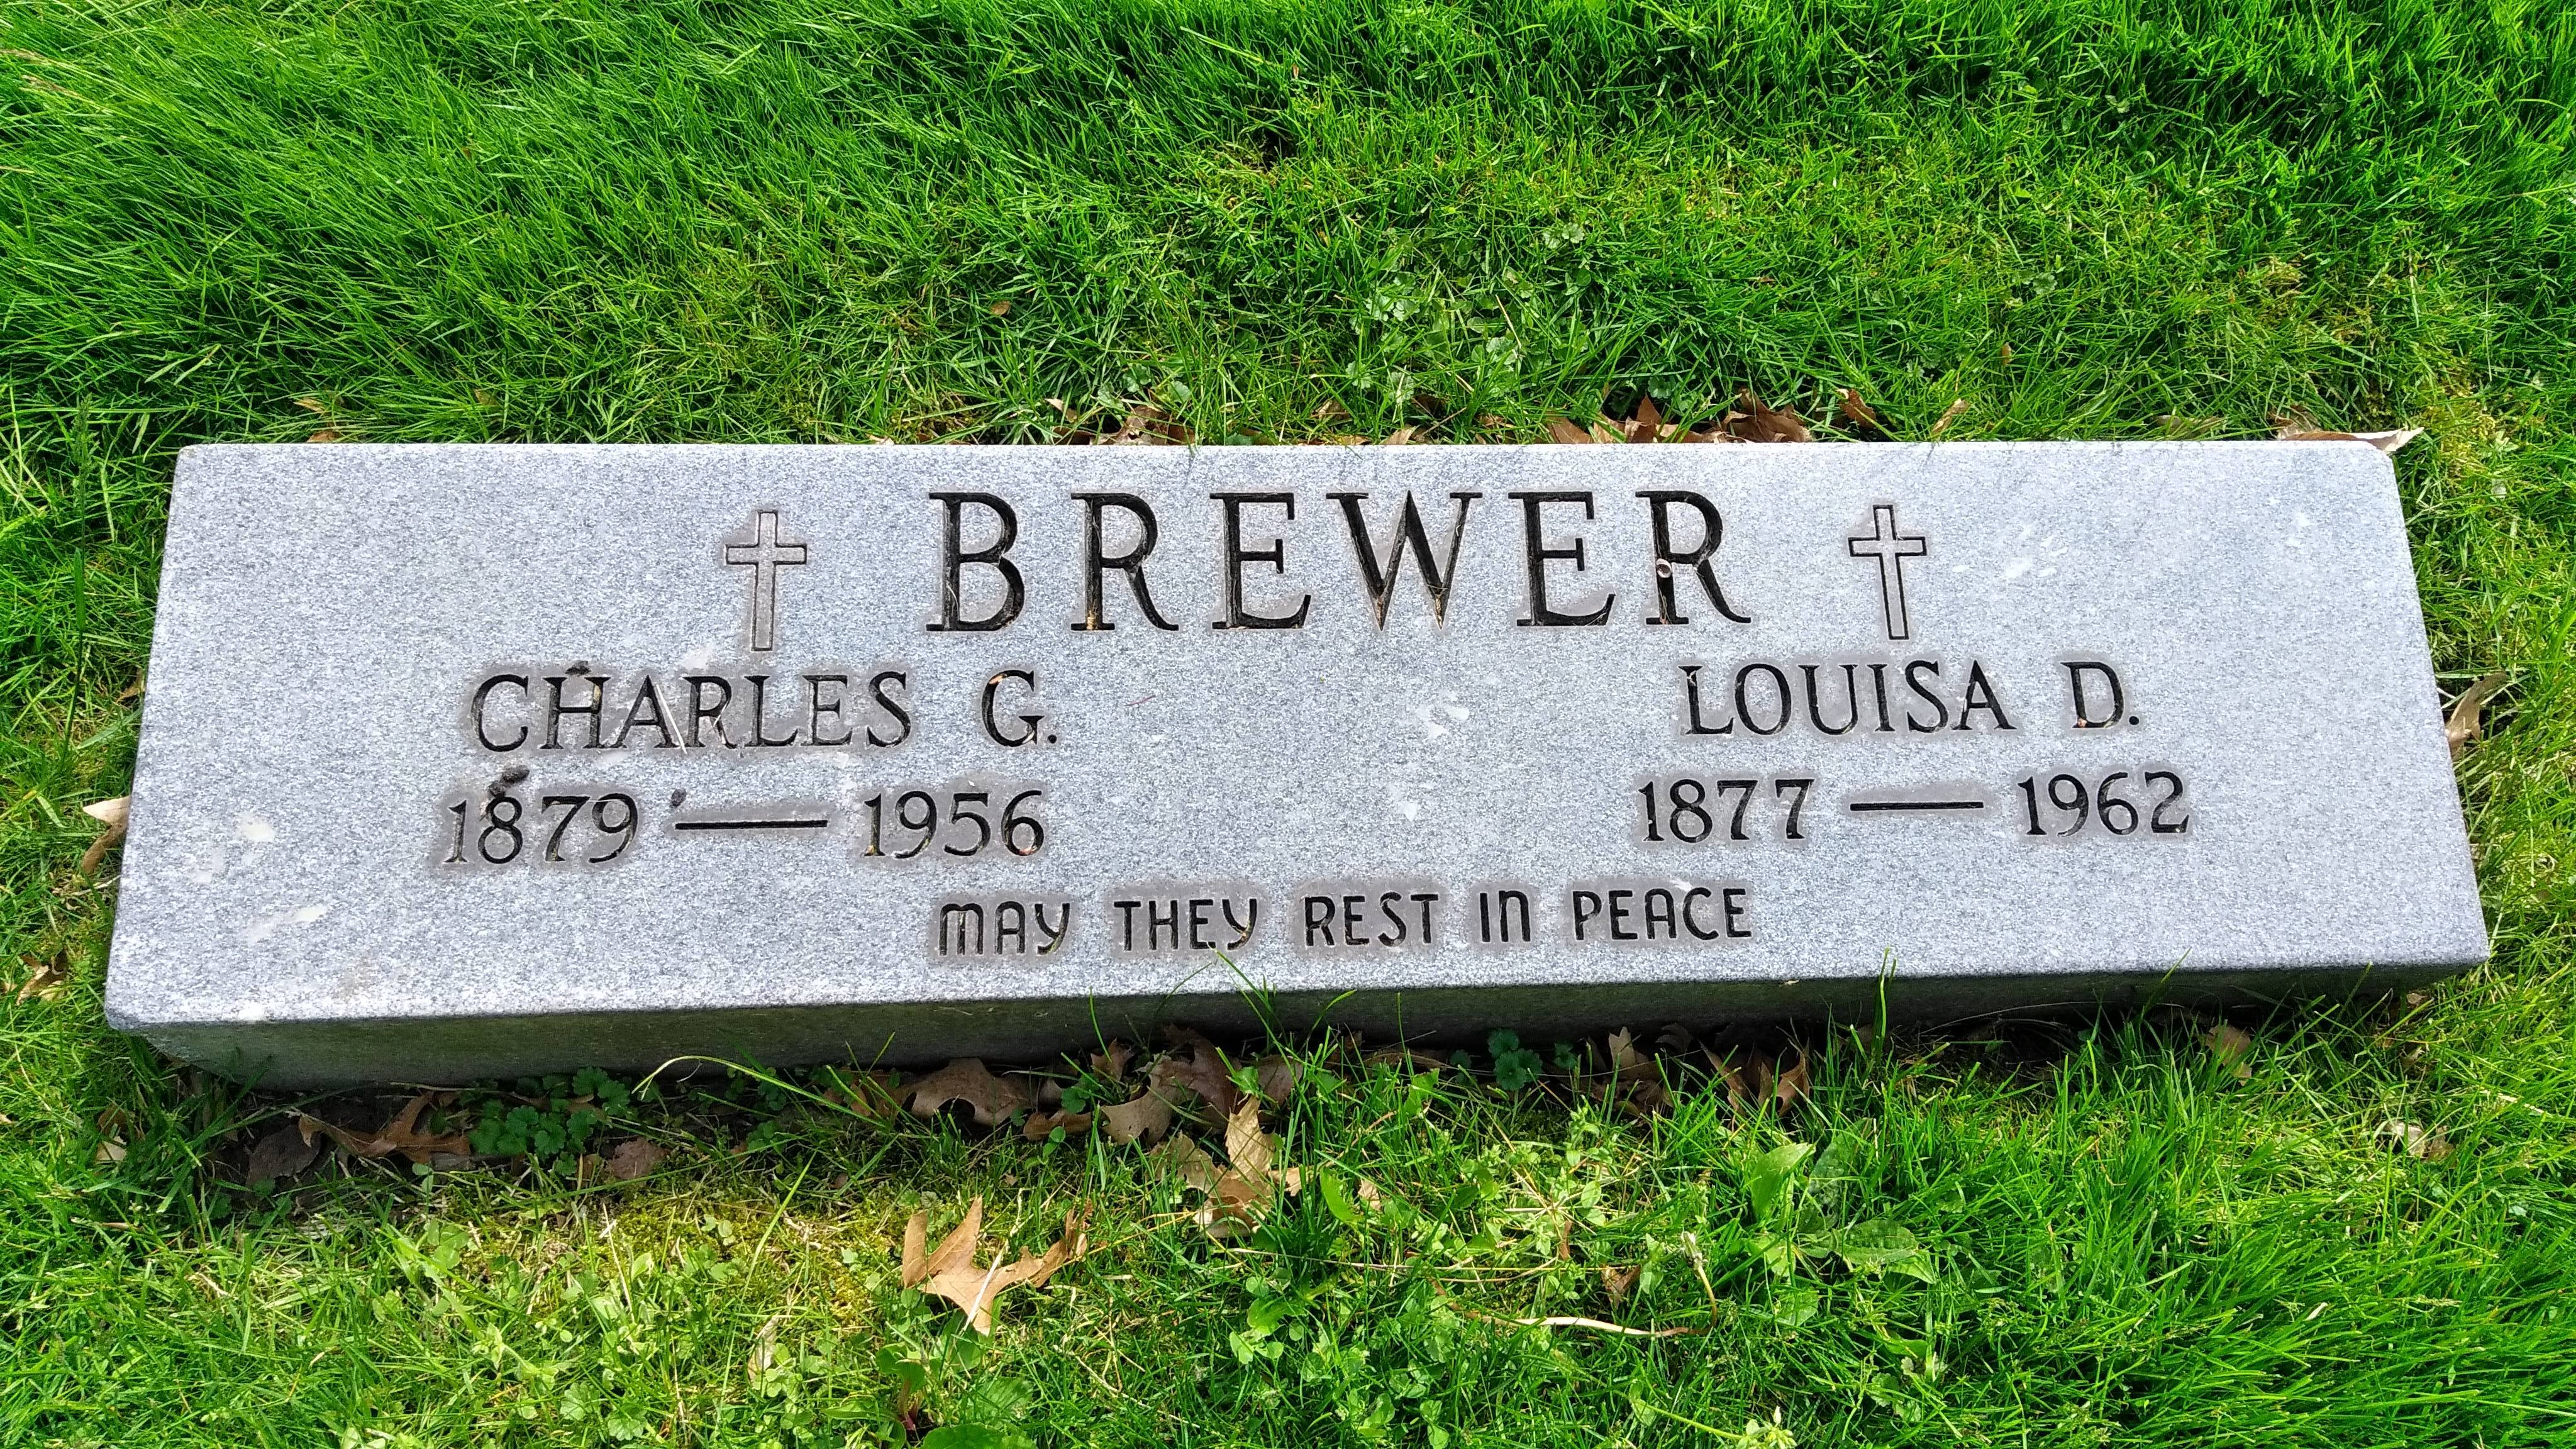flat: (55, 407, 2498, 1056)
